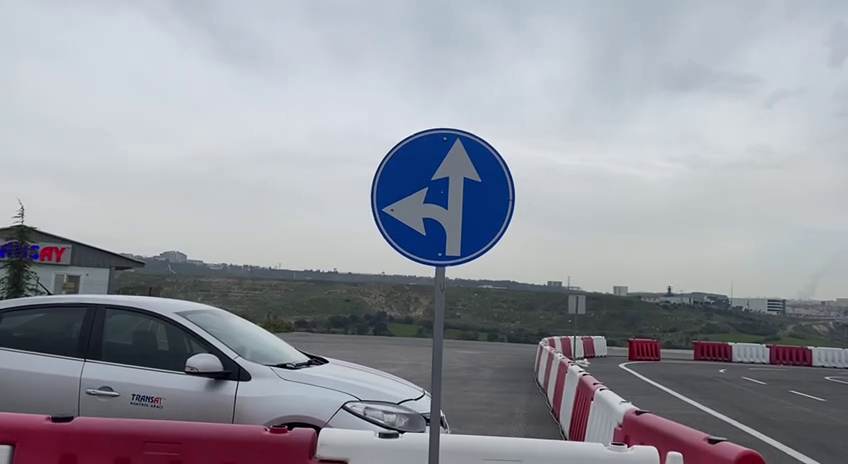forwardAndLeft: (367, 125, 519, 270)
